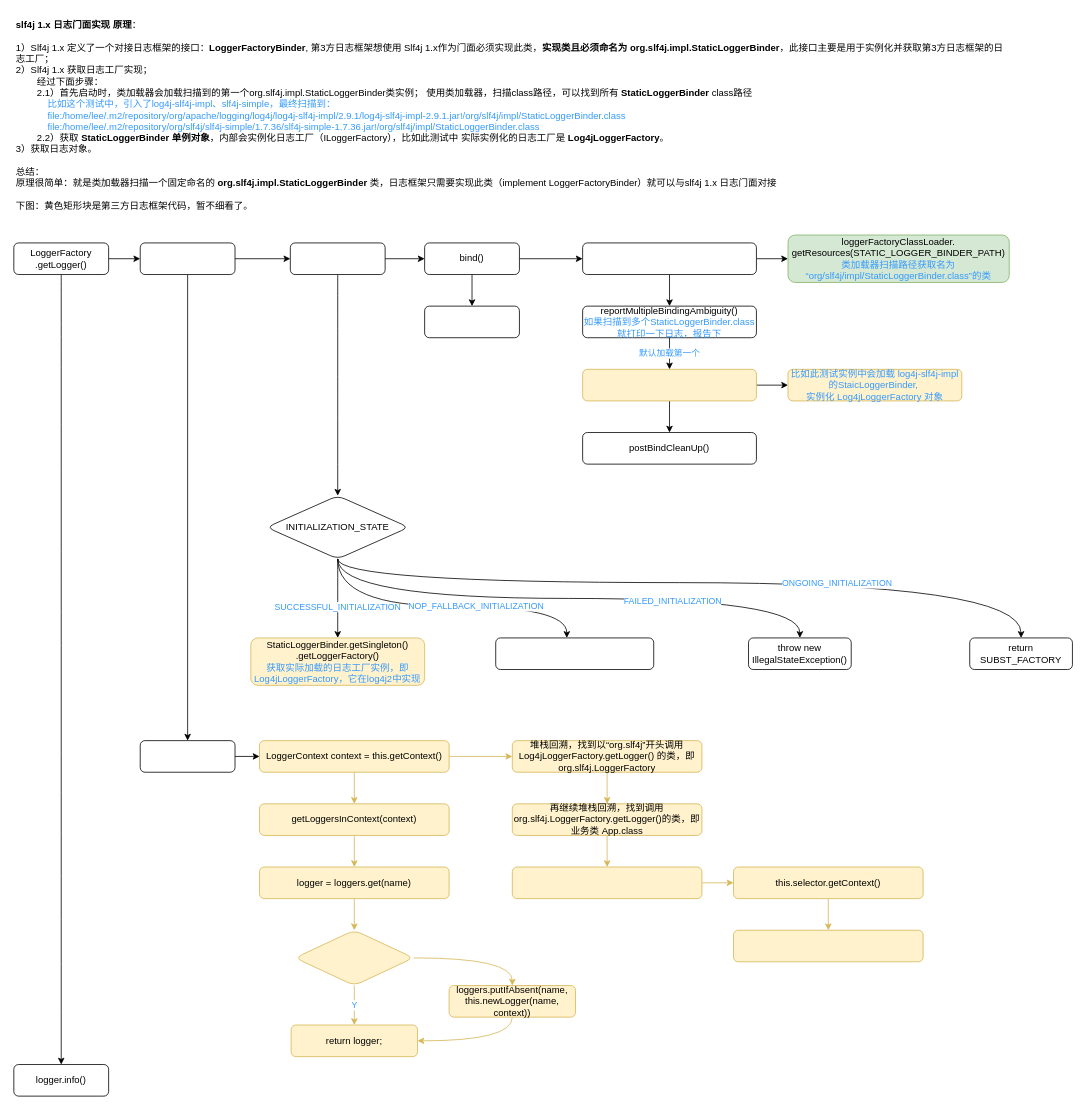
The diagram is 1086 pixels wide and 1110 high, and some of its shapes have lost their labels. Each missing label, with the box of its shape:
ctx.start(): (733, 929, 923, 962)
factory.getContext(): (512, 866, 702, 899)
findPossibleStaticLoggerBinderPathSet(): (582, 242, 756, 275)
getILoggerFactory(): (139, 242, 235, 275)
getLogger(): (139, 740, 235, 772)
logger != null: (294, 929, 414, 986)
performInitialization(): (290, 242, 385, 275)
return NOP_FALLBACK_FACTORY: (495, 637, 654, 670)
StaticLoggerBinder.getSingleton() StaticLoggerBinder内部实例化日志框架的Factory类，并初始化: (582, 369, 756, 401)
versionSanityCheck() 校验一下JDK版本: (424, 305, 519, 338)
